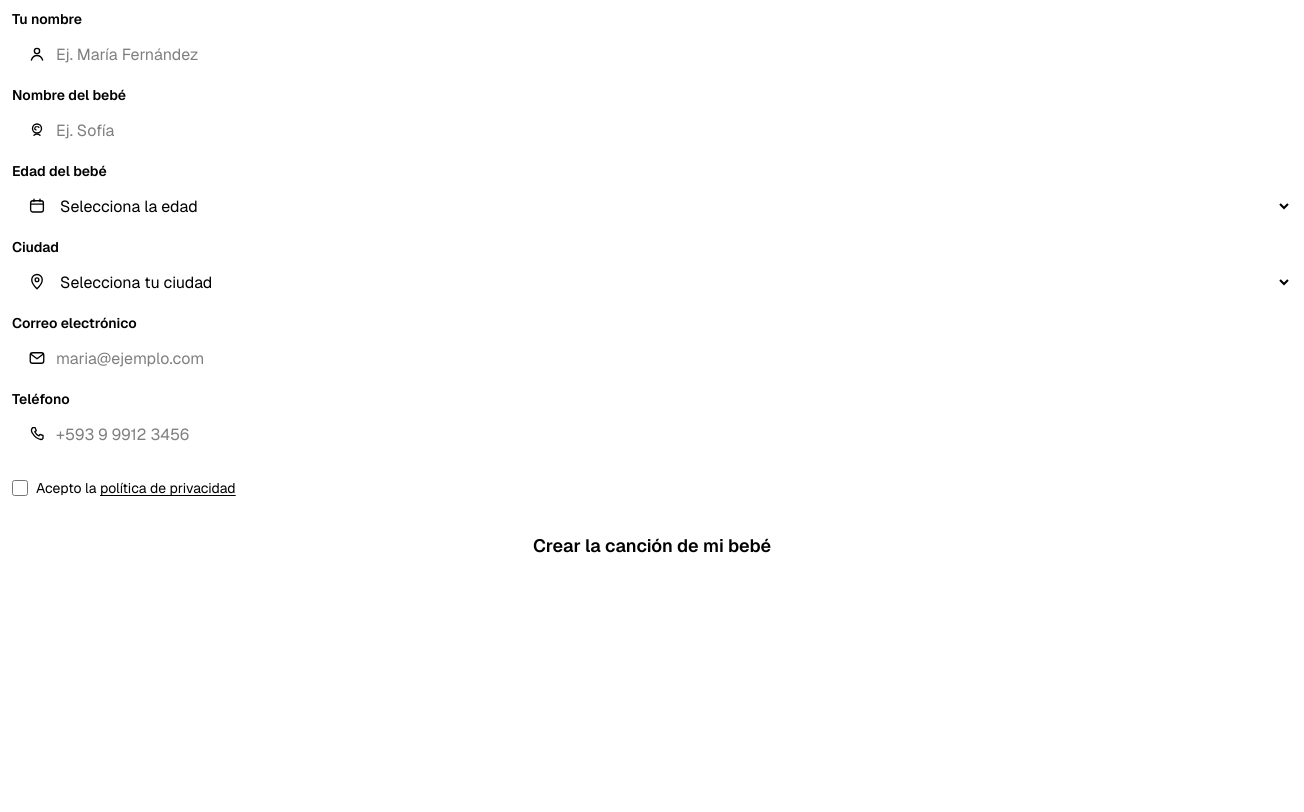
Test case: RegistrationForm › shows a validation error for a malformed email
Type "Jane Doe" into the field labelled "Tu nombre" at (652, 54), box [12, 30, 1292, 78]
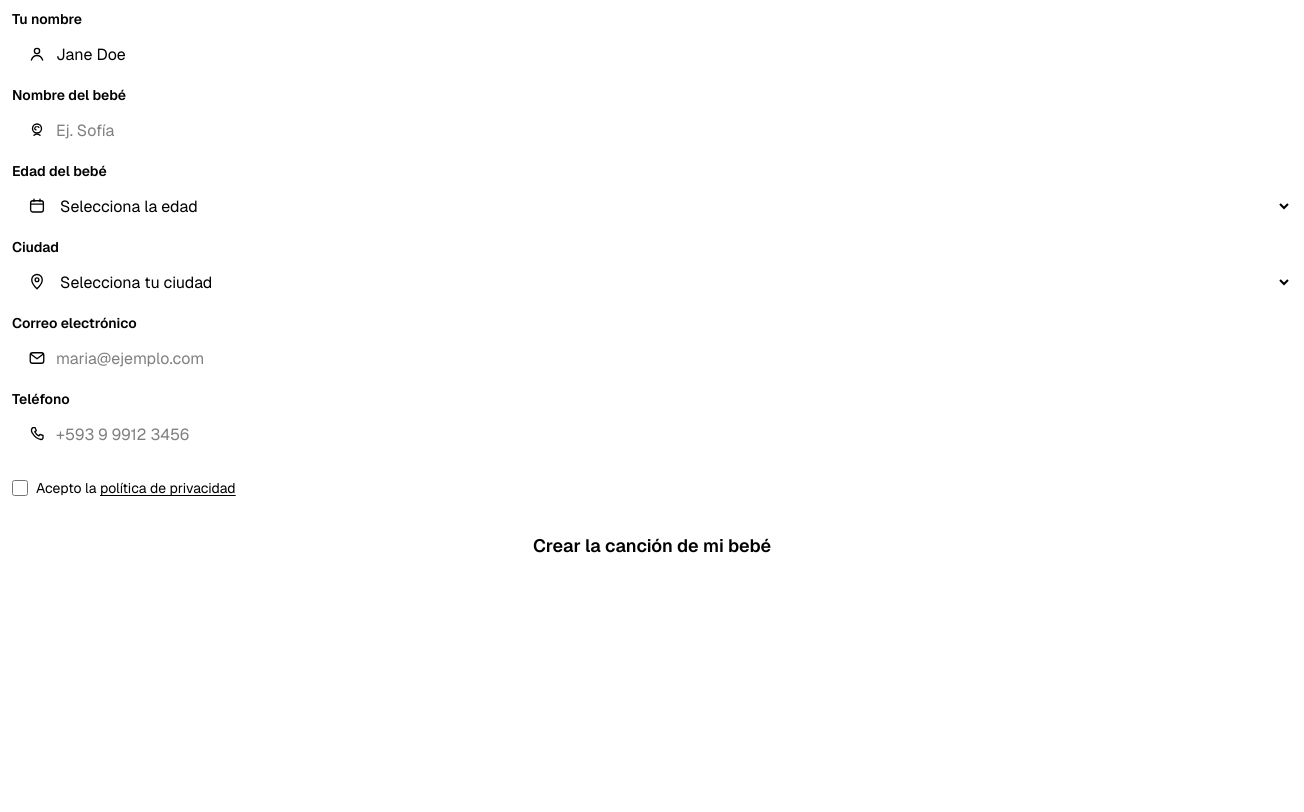
Type "Baby Doe" into the field labelled "Nombre del bebé" at (652, 130), box [12, 106, 1292, 154]
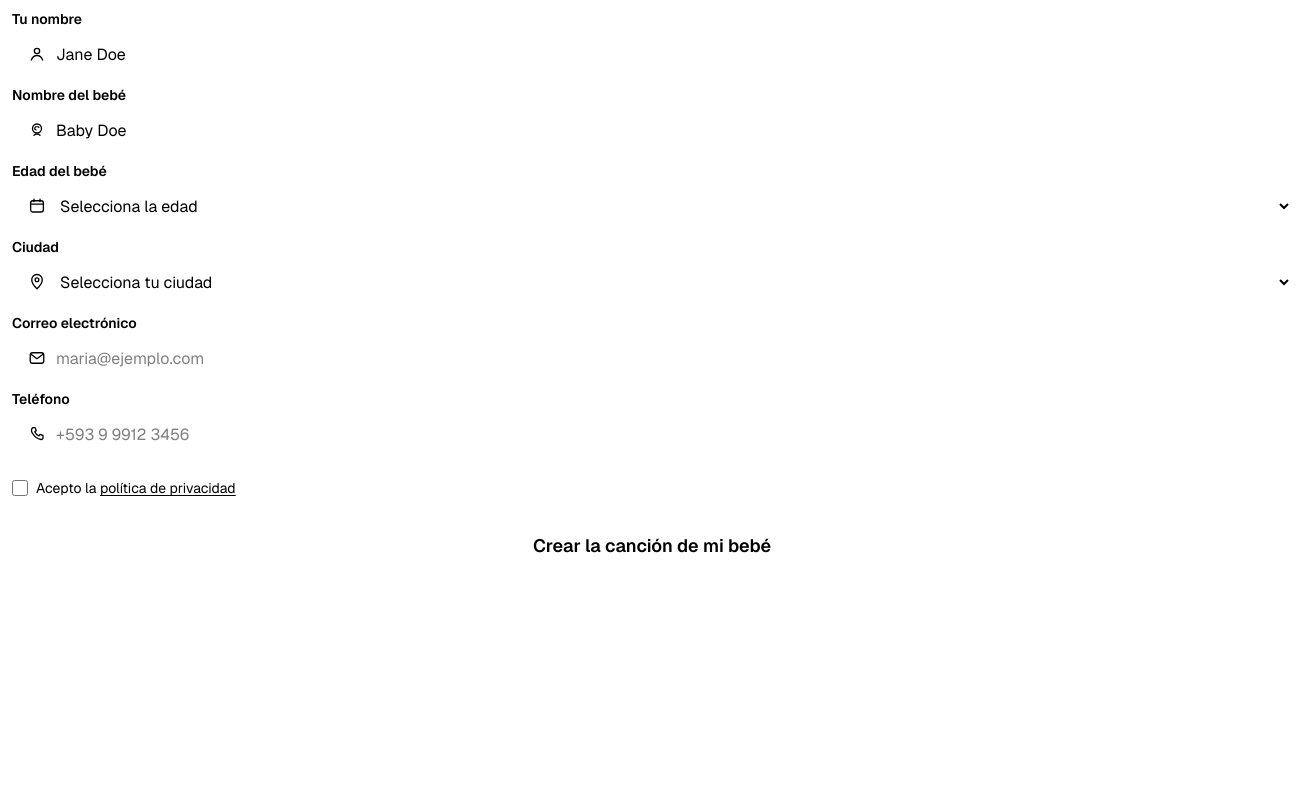
Type "not-an-email" into the field labelled "Correo electrónico" at (652, 358), box [12, 334, 1292, 382]
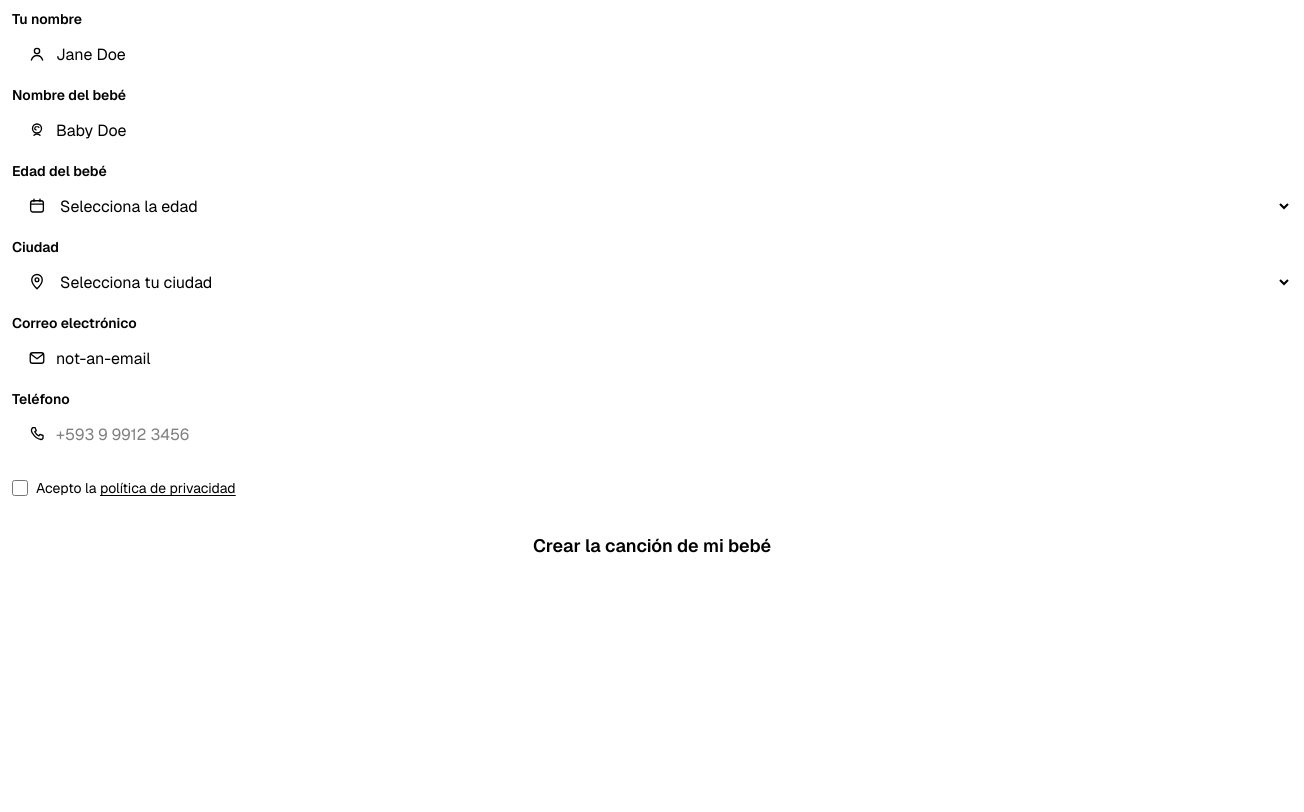
Click the checkbox labelled "Acepto la política de privacidad" at (20, 488), box [12, 480, 28, 496]
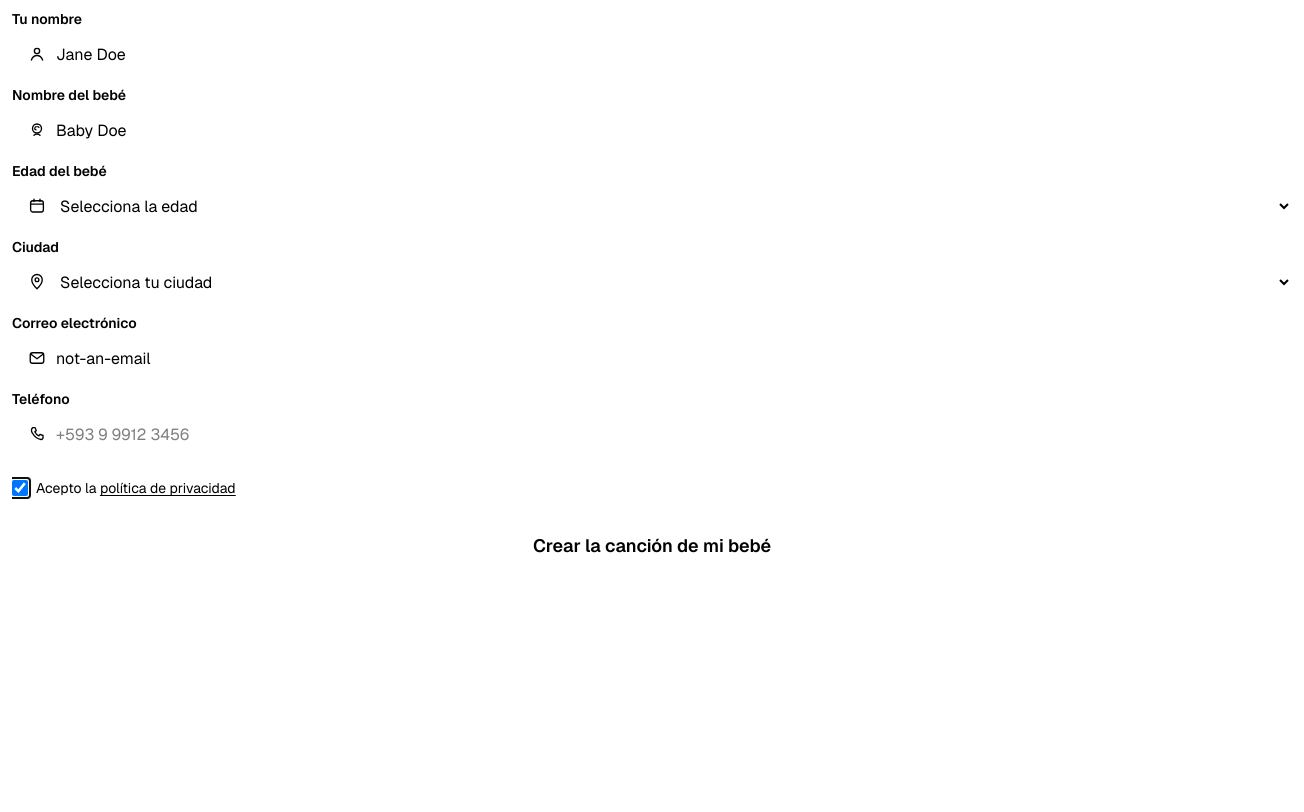
Click the button "Crear la canción de mi bebé" at (652, 546), box [12, 518, 1292, 574]
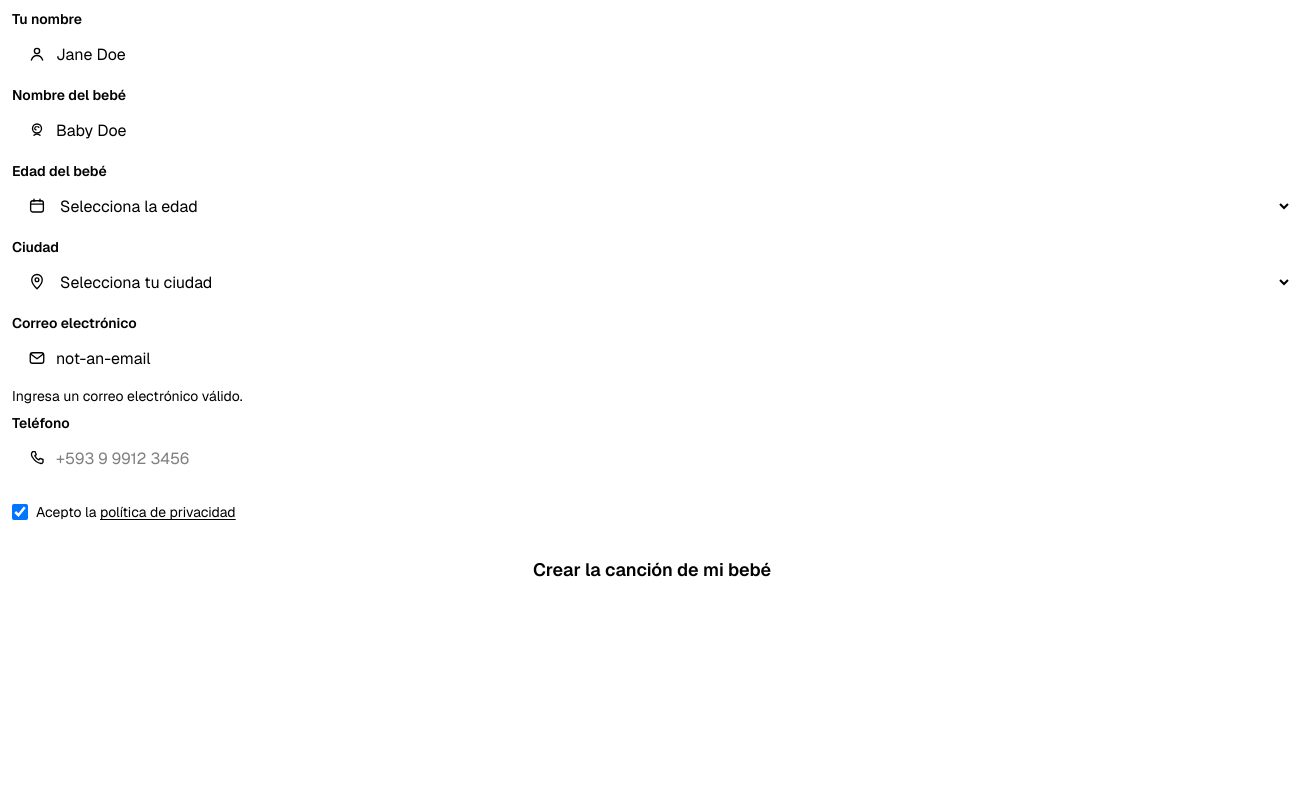
Check: the text "Ingresa un correo electrónico válido." is shown, box [12, 387, 243, 405]
